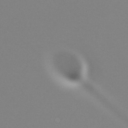normal: (84, 81, 126, 125)
